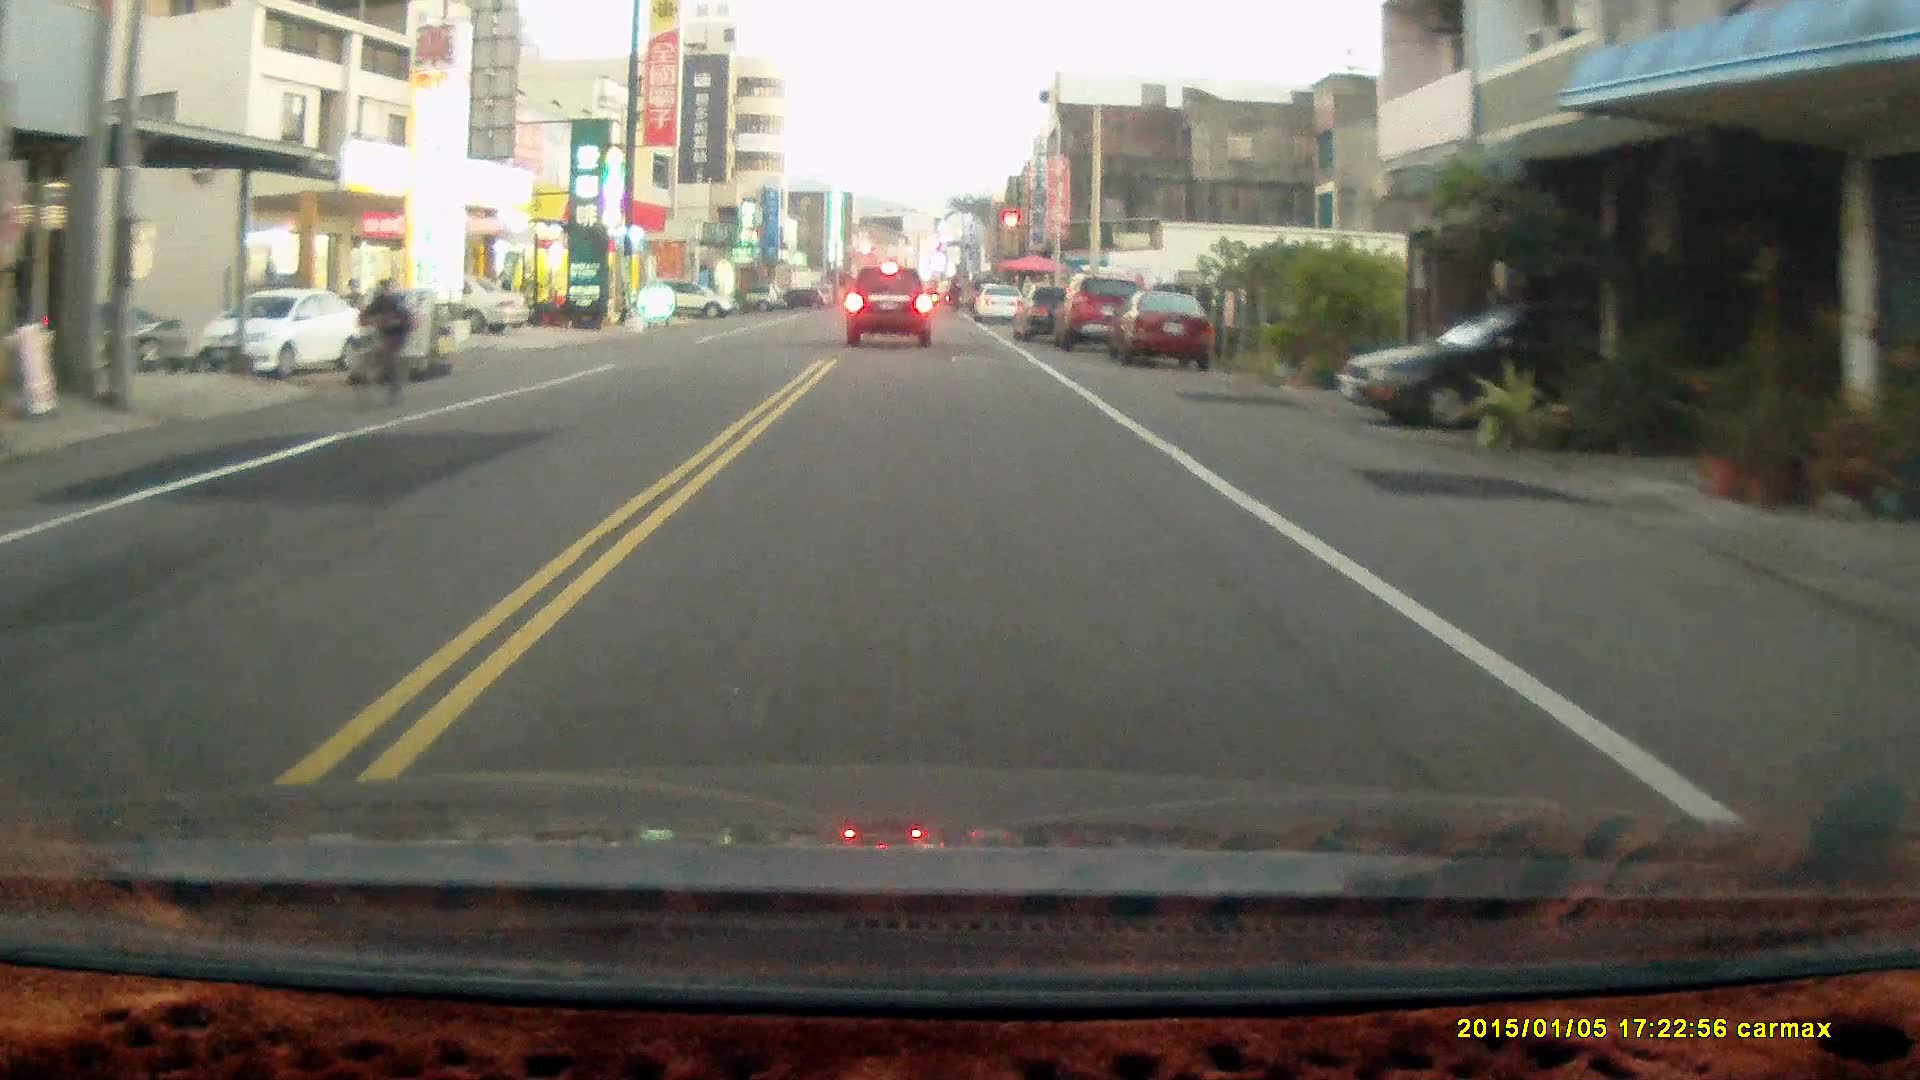rider: (353, 274, 406, 412)
vehicle: (1339, 298, 1737, 428), (202, 288, 366, 380), (1103, 288, 1219, 375), (369, 272, 534, 332), (844, 263, 938, 348), (1054, 275, 1150, 352), (651, 278, 733, 323)
